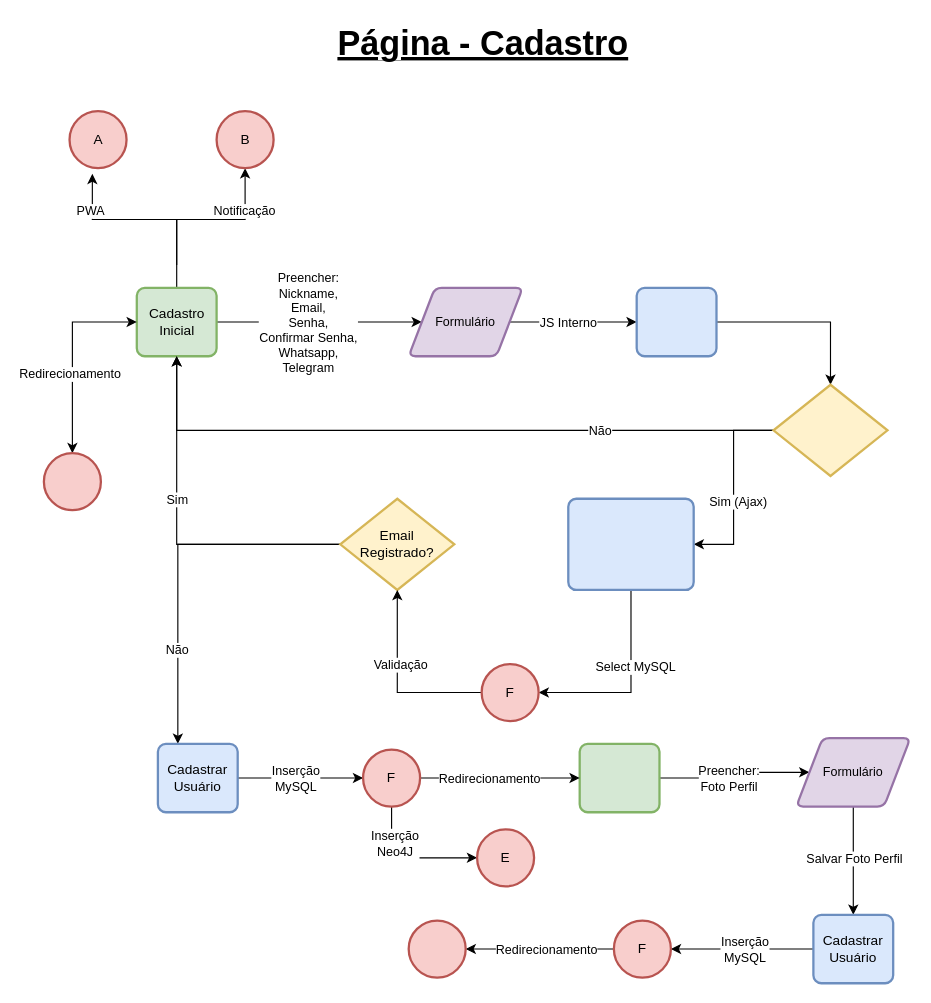
This 931x1003 diagram has some shape labels left out. The shapes that lost their labels are listed below. From the top down, each one's box as (x1, y1, x2, y2) in pixels, then its label:
(635, 286, 717, 357): Validar Dados
(772, 383, 888, 477): Dados Válidos?
(42, 451, 101, 511): G1
(567, 497, 694, 591): Validar se Email já está Registrado + Validação Dados
(578, 742, 660, 813): Cadastro Final
(407, 919, 466, 978): G2
